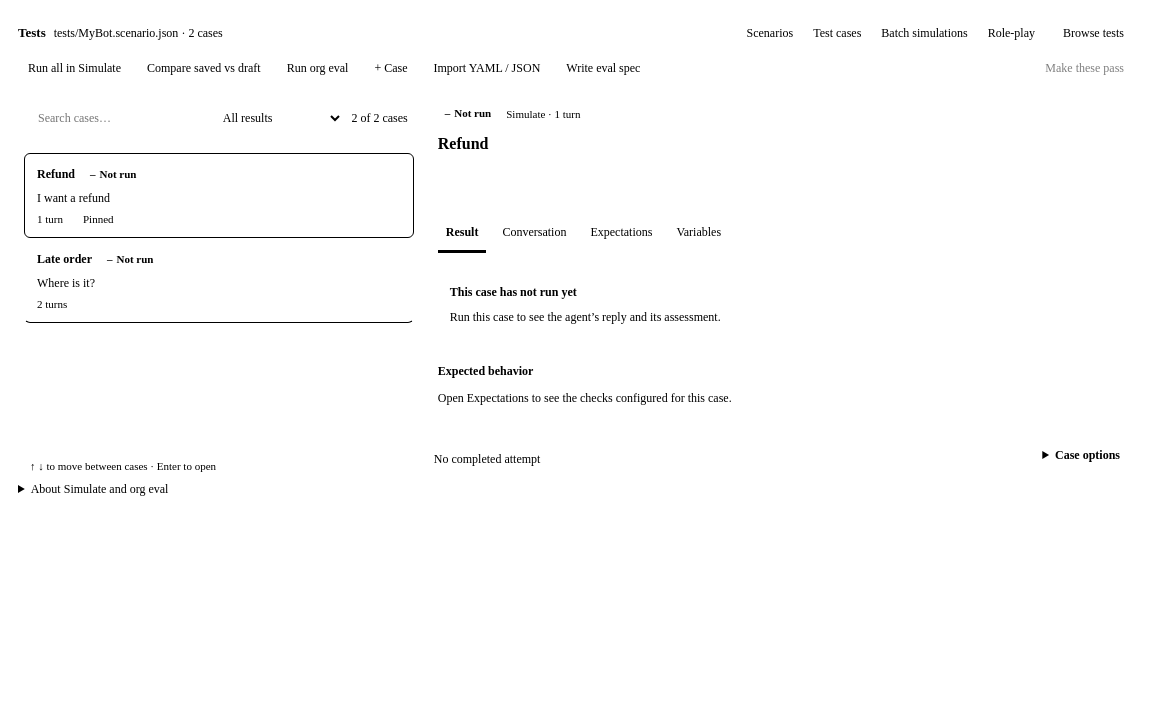
Test: reports a failed run
Expected: the element with test id "tests-cases-workbench" is shown, 18,89 -> 1134,482
Click the button "Run all in Simulate". click: click(74, 68)
box: 18,58 -> 131,79
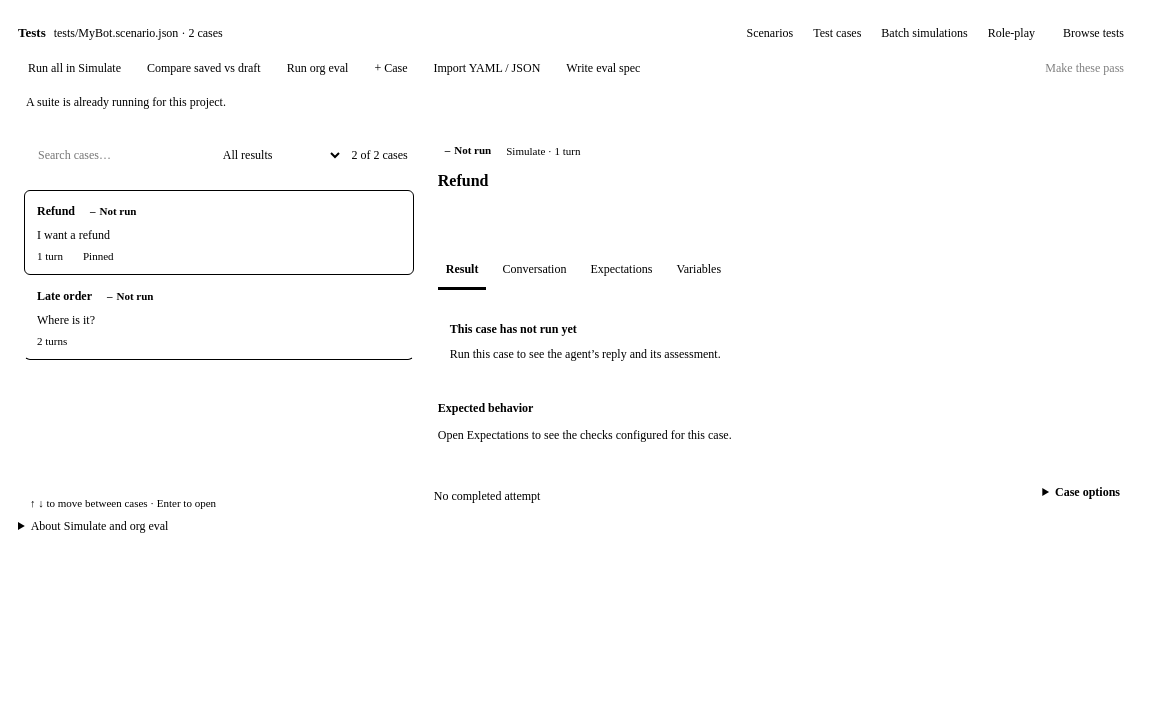
Expected: the message reads "A suite is already running for this project.", 26,95 -> 226,109
